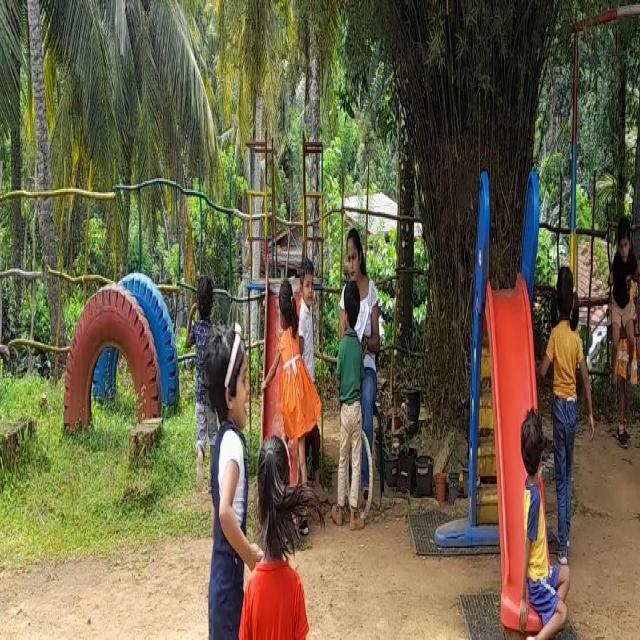child: (234, 459, 327, 640), (197, 334, 245, 640), (548, 284, 584, 553), (515, 435, 560, 640), (603, 200, 640, 409), (184, 262, 218, 478), (273, 282, 309, 456), (334, 299, 361, 516)
